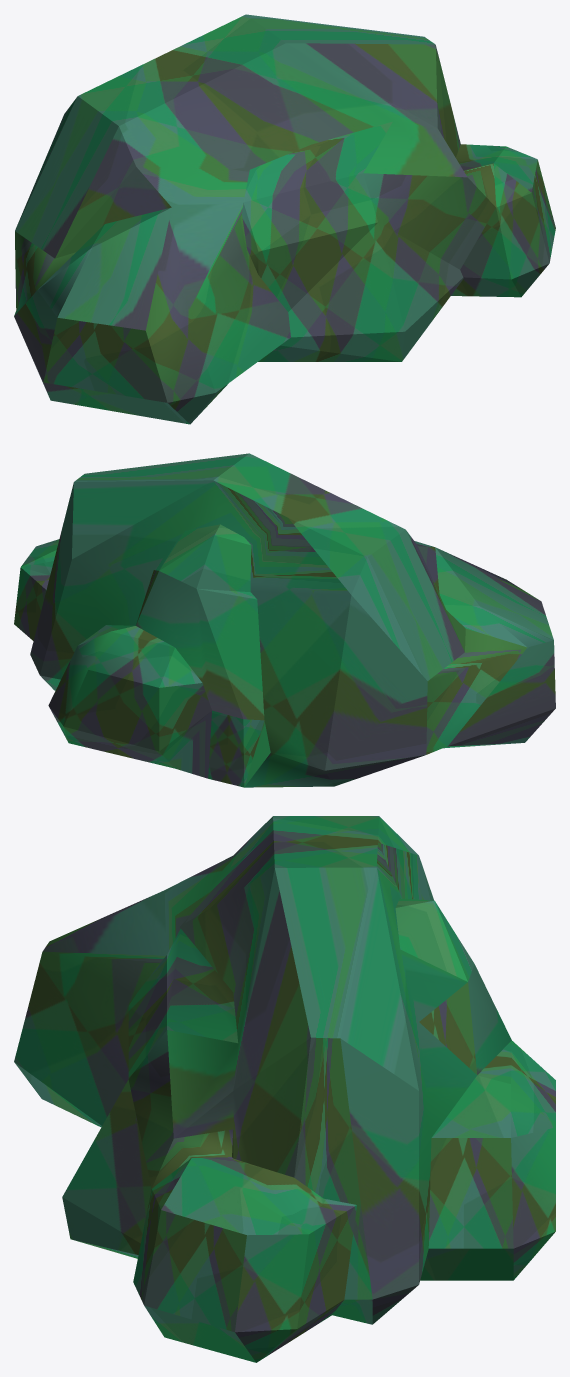
File: bush.fbx
3 renders of one model, top to bottom at view 1: azimuth 30°, elevation 25°; view 2: azimuth 150°, elevation 25°; view 3: azimuth 270°, elevation 25°, orthographic. The views are drawn at different scales.
Parts seen in each view (by area): view 1: pCube8; view 2: pCube8; view 3: pCube8.
Part boxes in pixels (x1,y1,x2,y2): pCube8: (14,14,555,424); pCube8: (14,453,555,787); pCube8: (14,816,555,1362).
Bounding box in the file's own units: 4.34 × 2.12 × 2.92.
Materials: 1 (1 with a texture image).
